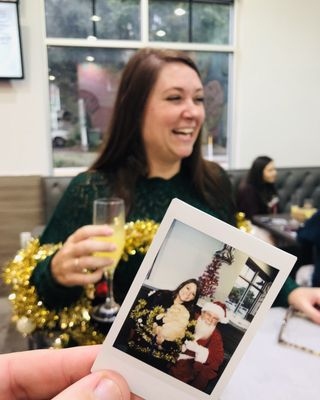pizza: (91, 197, 126, 312)
